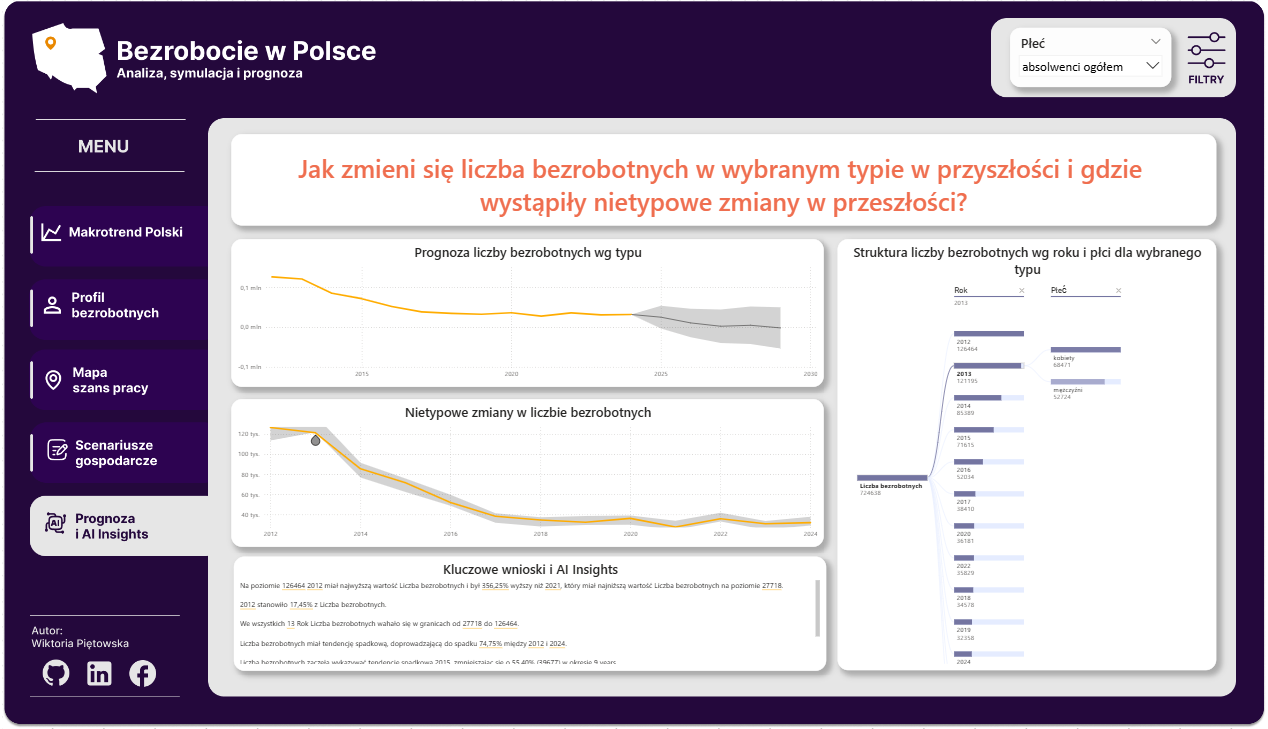

What the dashboard file says about the page in this screenshot:
{"tool":"powerbi","page":{"name":"Strona 5","canvas":[2360,1360],"ordinal":4},"visuals":[{"type":"image","box":[0,0,2360,1360],"z":0},{"type":"image","box":[0,0,2360,1360],"z":1000},{"type":"slicer","fields":{"Values":["PlecTyp.n2"]},"box":[1880,52.5,300,110],"z":2000},{"type":"decompositionTreeVisual","title":"Struktura liczby bezrobotnych wg roku i płci dla wybranego typu","fields":{"Analyze":["Sum(PlecTyp.Wartość)"],"ExplainBy":["PlecTyp.Rok","PlecTyp.n1"]},"box":[1557.5,447.5,705,802.5],"z":3000},{"type":"lineChart","title":"Prognoza liczby bezrobotnych wg typu","fields":{"Y":["Sum(PlecTyp.Wartość)"],"Category":["PlecTyp.Rok"]},"box":[430,447.5,1102.5,275],"z":4000},{"type":"lineChart","title":"Nietypowe zmiany w liczbie bezrobotnych","fields":{"Y":["Sum(PlecTyp.Wartość)"],"Category":["PlecTyp.Data"]},"box":[430,745,1102.5,275],"z":5000},{"type":"textbox","title":"Kluczowe wnioski i AI Insights","box":[435,1037.5,1102.5,212.5],"z":6000},{"type":"card","fields":{"Values":["#MiaryTytuly.Tytul9"]},"box":[430,250,1832.5,170],"z":7000},{"type":"shape","box":[50,392.5,335,107.5],"z":8000},{"type":"shape","box":[50,530,335,107.5],"z":9000},{"type":"shape","box":[50,670,335,107.5],"z":10000},{"type":"shape","box":[50,777.5,335,107.5],"z":11000},{"type":"shape","box":[72.5,1222.5,65,61.2],"z":12000},{"type":"shape","box":[155,1222.5,62.5,61.2],"z":13000},{"type":"shape","box":[2187.5,42.5,105,130],"z":14000}]}

Visuals, with their boxes in screenshot pixels (x1, y1, x2, y2), scaled from the page's 2360x1360 canvas onto the 1268x729 screenshot:
image: [left=0, top=0, right=1267, bottom=728]
image: [left=0, top=0, right=1267, bottom=728]
slicer - PlecTyp.n2: [left=1010, top=28, right=1171, bottom=87]
"Struktura liczby bezrobotnych wg roku i płci dla wybranego typu" decompositionTreeVisual: [left=837, top=240, right=1216, bottom=670]
"Prognoza liczby bezrobotnych wg typu" lineChart: [left=231, top=240, right=823, bottom=387]
"Nietypowe zmiany w liczbie bezrobotnych" lineChart: [left=231, top=399, right=823, bottom=547]
"Kluczowe wnioski i AI Insights" textbox: [left=234, top=556, right=826, bottom=670]
card - #MiaryTytuly.Tytul9: [left=231, top=134, right=1216, bottom=225]
shape: [left=27, top=210, right=207, bottom=268]
shape: [left=27, top=284, right=207, bottom=342]
shape: [left=27, top=359, right=207, bottom=417]
shape: [left=27, top=417, right=207, bottom=474]
shape: [left=39, top=655, right=74, bottom=688]
shape: [left=83, top=655, right=117, bottom=688]
shape: [left=1175, top=23, right=1232, bottom=92]
